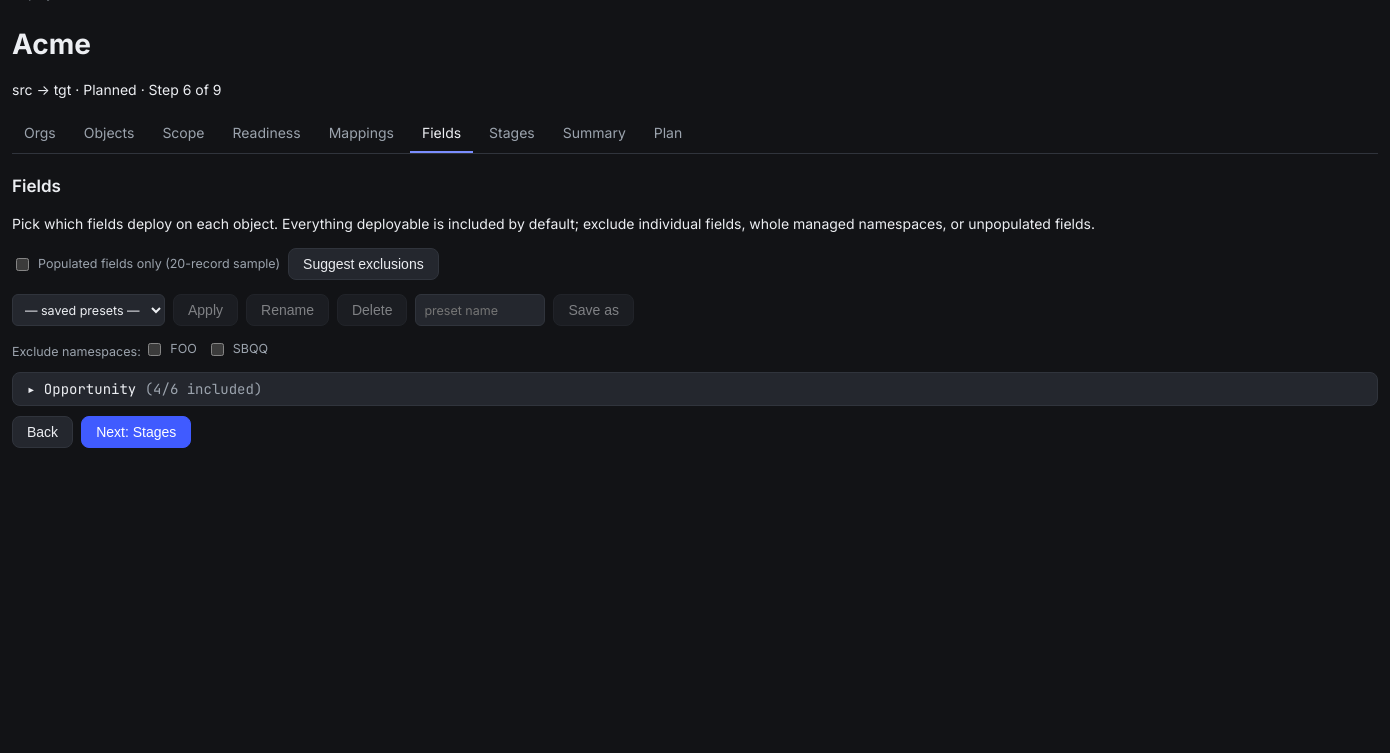
Test: StepFields (5B.6) › a user-chosen Skip mapping locks the field with its own badge (5B.6-b review fix)
Check: the heading "Fields" is shown, box [12,176,61,196]
Click the button "▸ Opportunity (4/6 included)". click: coordinates (90, 389)
box: [12,372,1378,406]
(page scrolled)
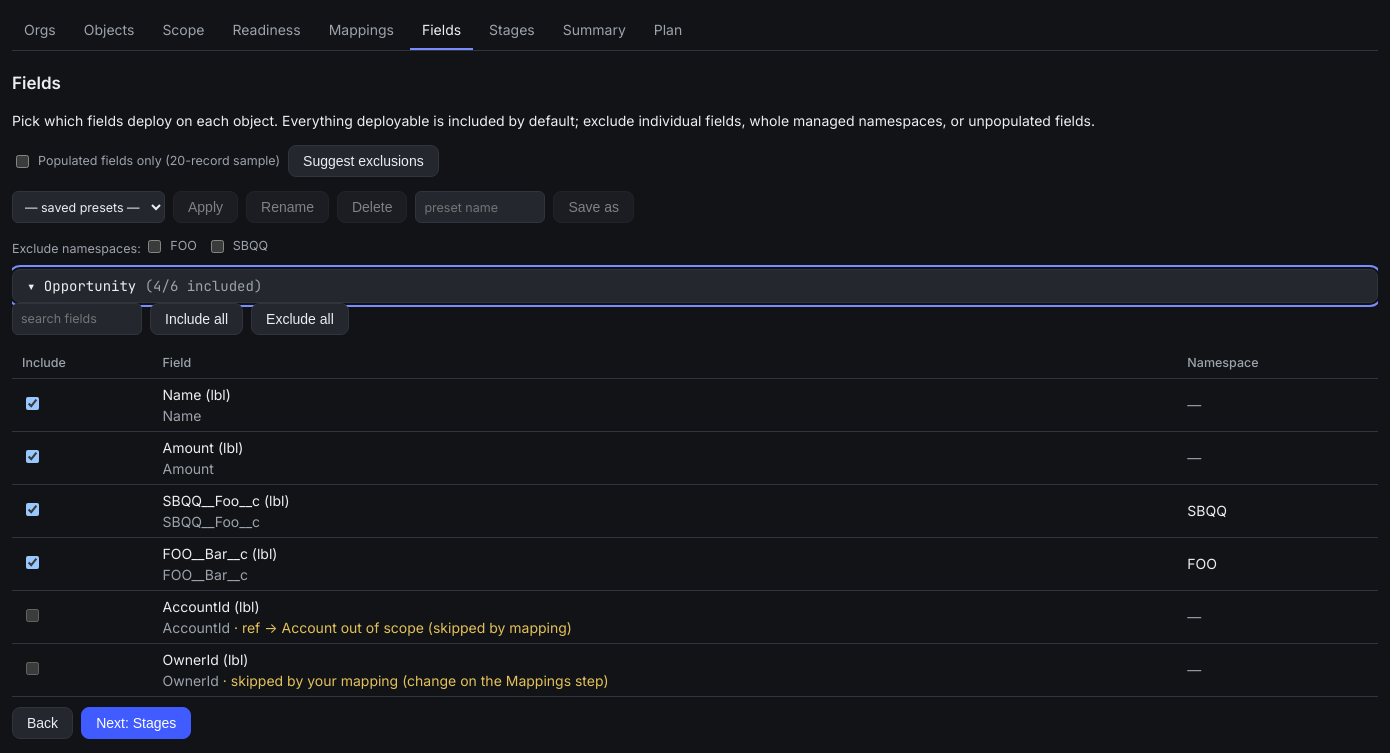
Check: the checkbox named "Include OwnerId" is disabled, box [26,662,39,675]
Check: the checkbox named "Include OwnerId" is not checked, box [26,662,39,675]
Check: the text "· skipped by your mapping (change on the Mappings step)" is shown, box [219,672,608,688]
